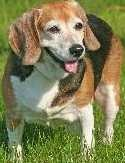Dog: (9, 0, 100, 138)
